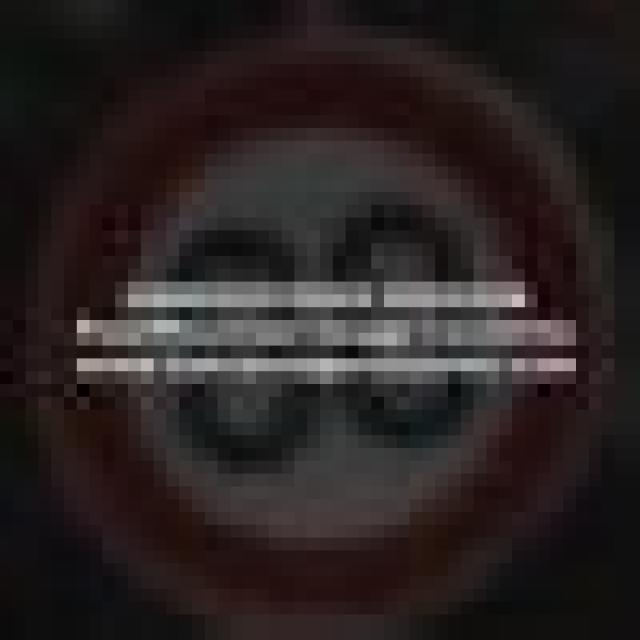speed_limit_50: (39, 64, 602, 576)
